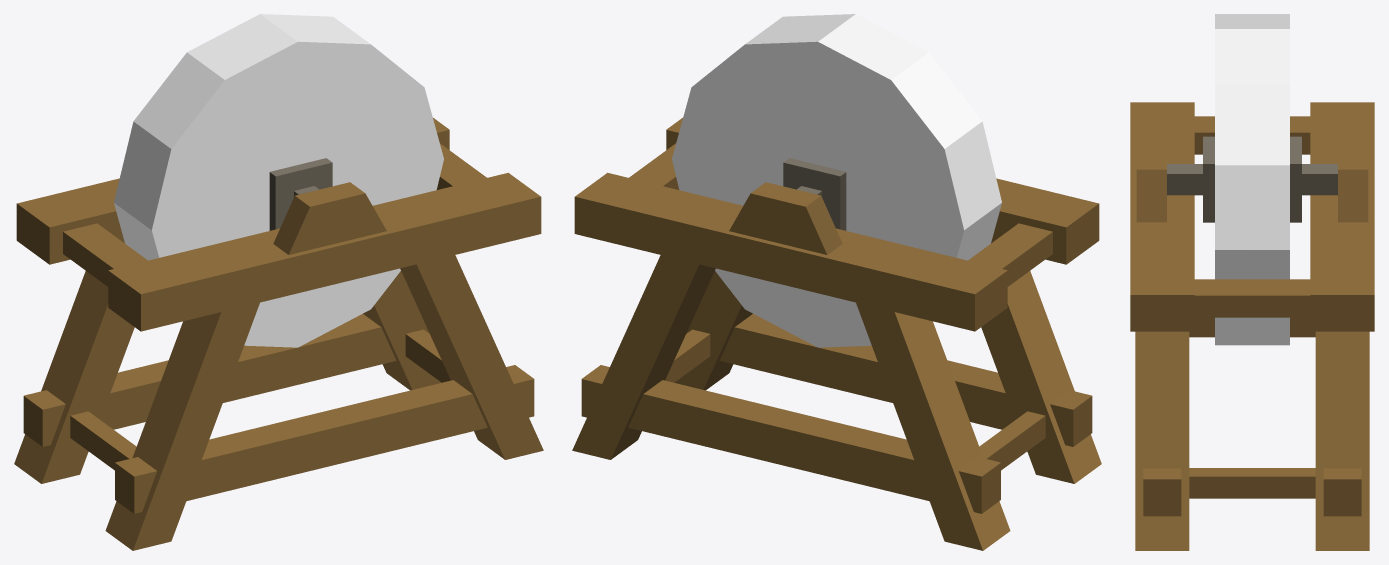
File: GrindStone.gltf
3 renders of one model, left to right at view 1: azimuth 30°, elevation 25°; view 2: azimuth 150°, elevation 25°; view 3: azimuth 270°, elevation 25°, orthographic.
Parts seen in each view (by area): view 1: SF_Prop_GrindStone_01; view 2: SF_Prop_GrindStone_01; view 3: SF_Prop_GrindStone_01.
Part boxes in pixels (left/top/right/bottom): SF_Prop_GrindStone_01: left=14, top=14, right=543, bottom=550; SF_Prop_GrindStone_01: left=572, top=14, right=1101, bottom=550; SF_Prop_GrindStone_01: left=1130, top=14, right=1374, bottom=550.
Size of the model in its own units: 0.0176 by 0.0175 by 0.00918.
Materials: 2 (1 with a texture image).
